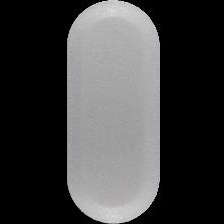68387-696: (0, 0, 224, 224)
